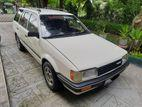car: (13, 6, 130, 97)
